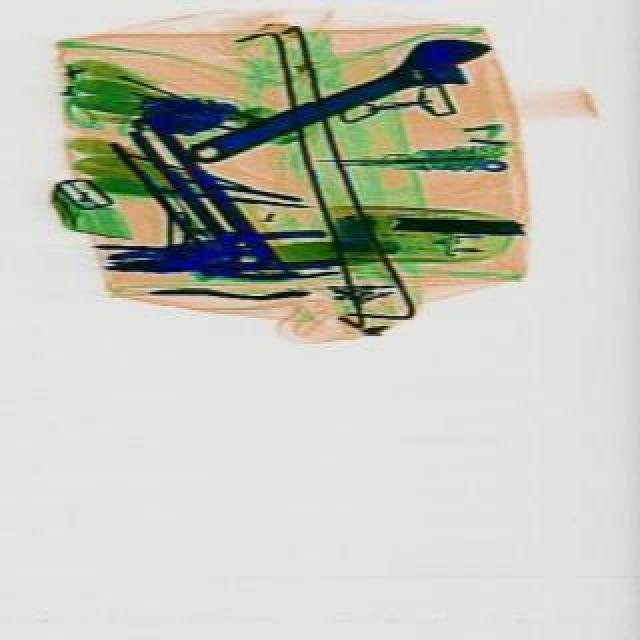scissors: (186, 22, 506, 186)
wrench: (108, 230, 340, 294)
